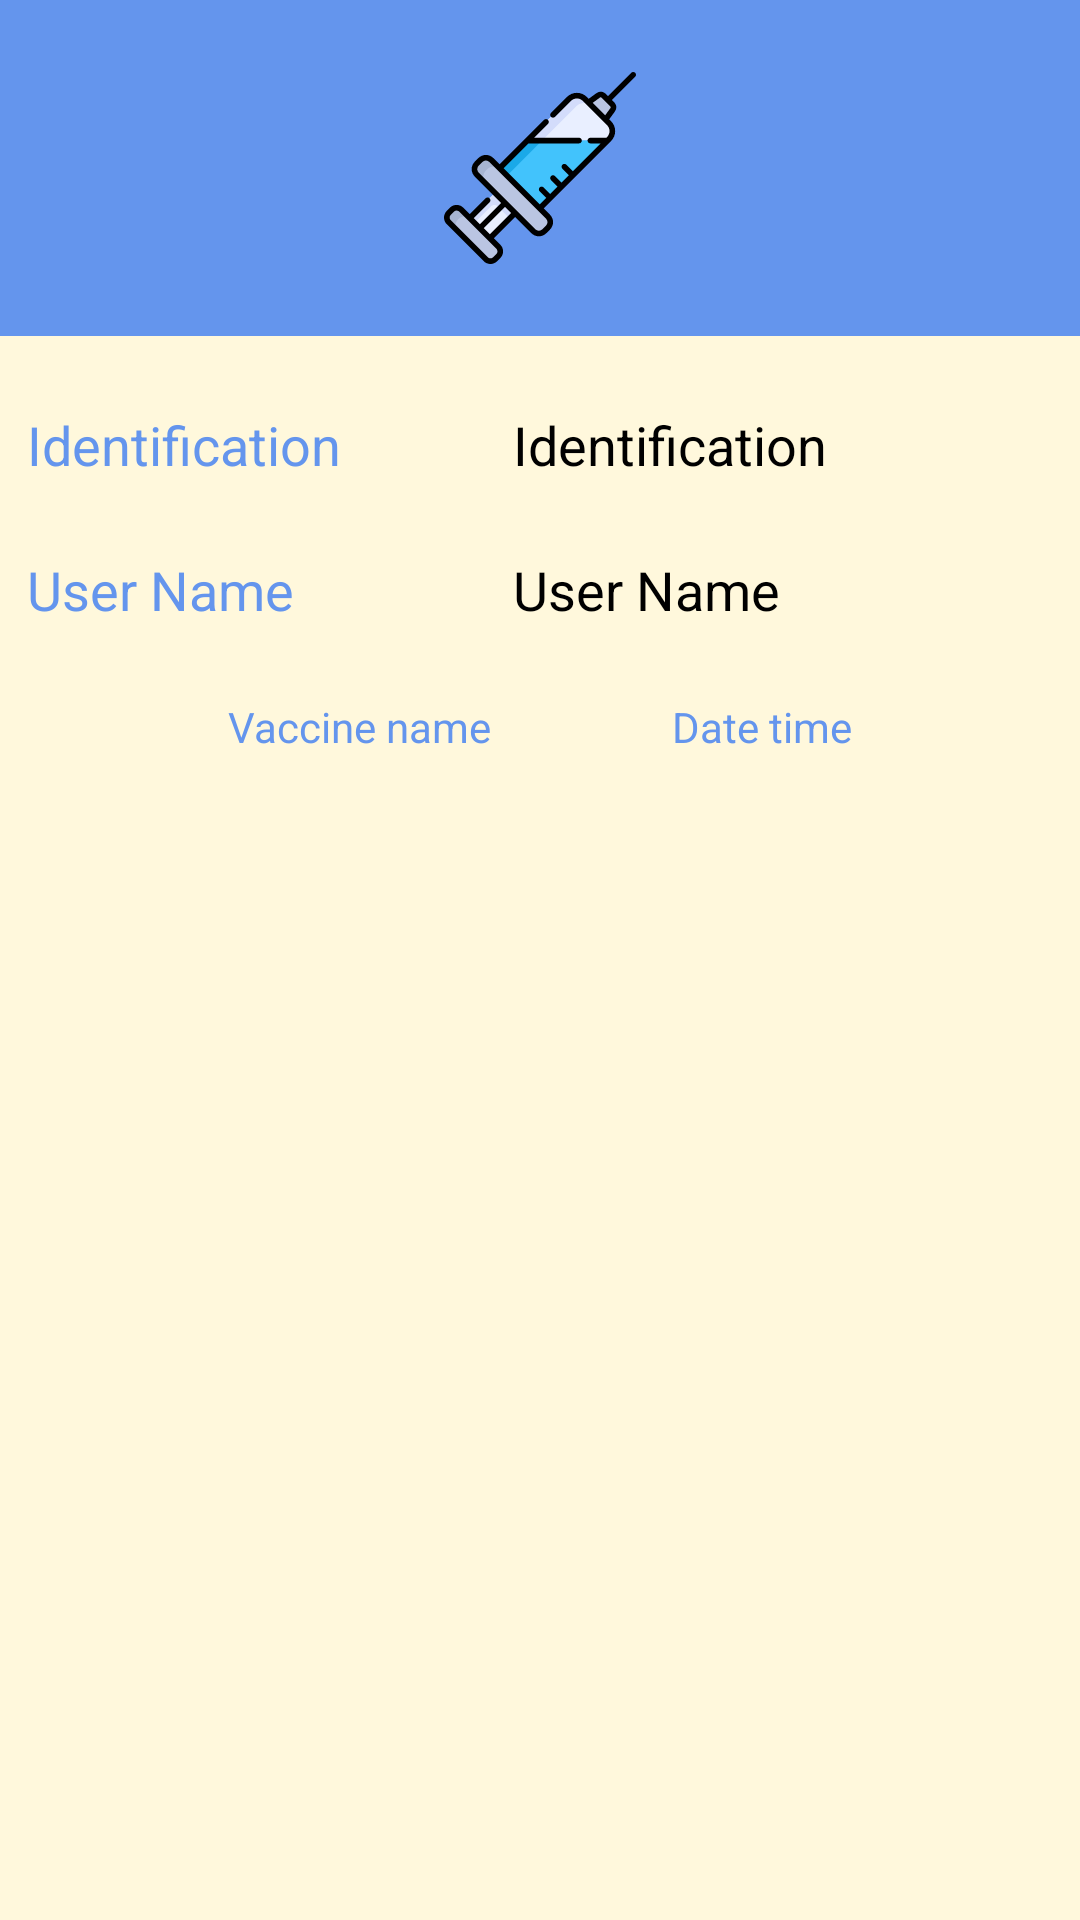

Where to tap for icons on this 1080px x 1920px app screen, as point (x, y):
vaccine: point (540, 168)
